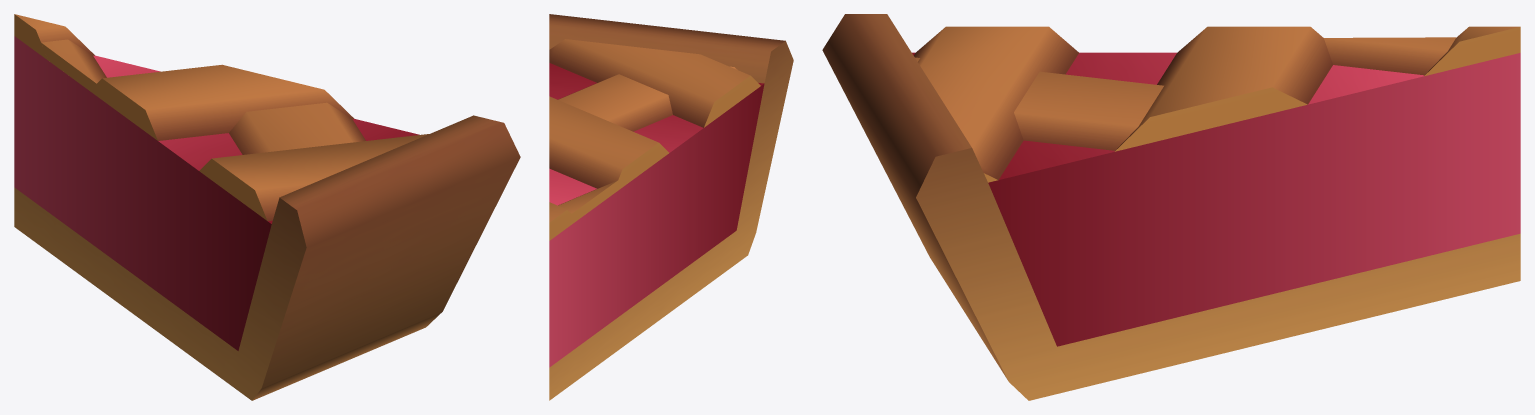
File: m_AmericanPie02_Slice03.fbx
The picture shows the model from 3 angles, left to right: view 1: azimuth 30°, elevation 25°; view 2: azimuth 150°, elevation 25°; view 3: azimuth 270°, elevation 25°; orthographic projection. The views are drawn at different scales.
Visible parts, largest first — view 1: m_AmericanPie02_Slice03; view 2: m_AmericanPie02_Slice03; view 3: m_AmericanPie02_Slice03.
Boxes of the visible parts, left/top/right/bottom form: m_AmericanPie02_Slice03: left=14, top=14, right=520, bottom=400; m_AmericanPie02_Slice03: left=549, top=14, right=793, bottom=400; m_AmericanPie02_Slice03: left=822, top=14, right=1520, bottom=400.
Bounding box in the file's own units: 7 × 5.91 × 14.
